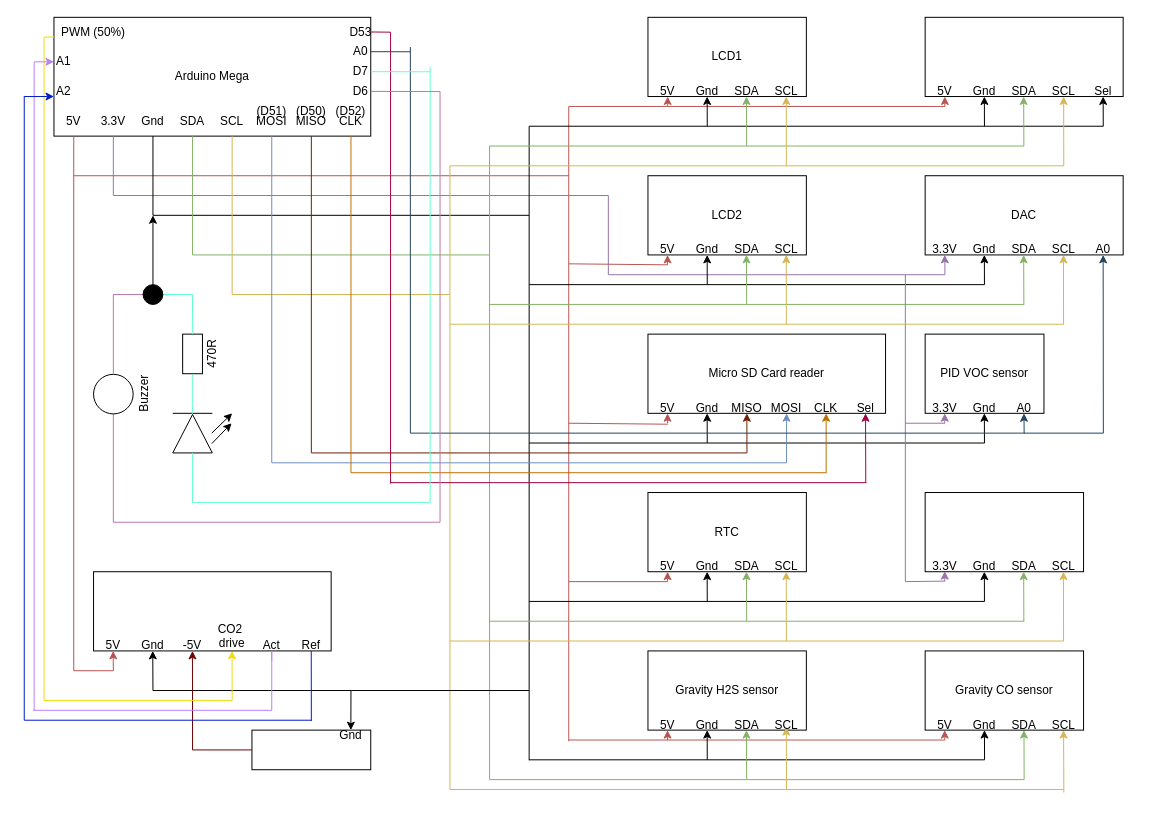
Image size: 1150x818. Some labels were removed from this diagram. The box of each missing label's shape, as (x1, y1, x2, y2) in pixels:
-5V supply: (251, 729, 371, 770)
IRM-AT CH4 sensor: (93, 571, 331, 651)
SCD41 (CO2 Sensor): (924, 492, 1084, 572)
SPS30 (PM Sensor): (924, 16, 1123, 97)
